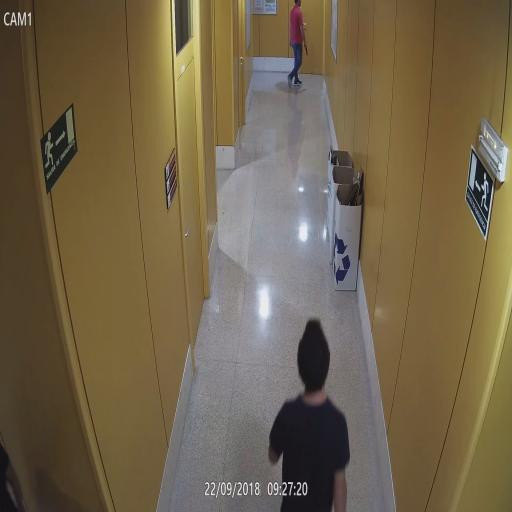Handgun: (302, 37, 309, 55)
